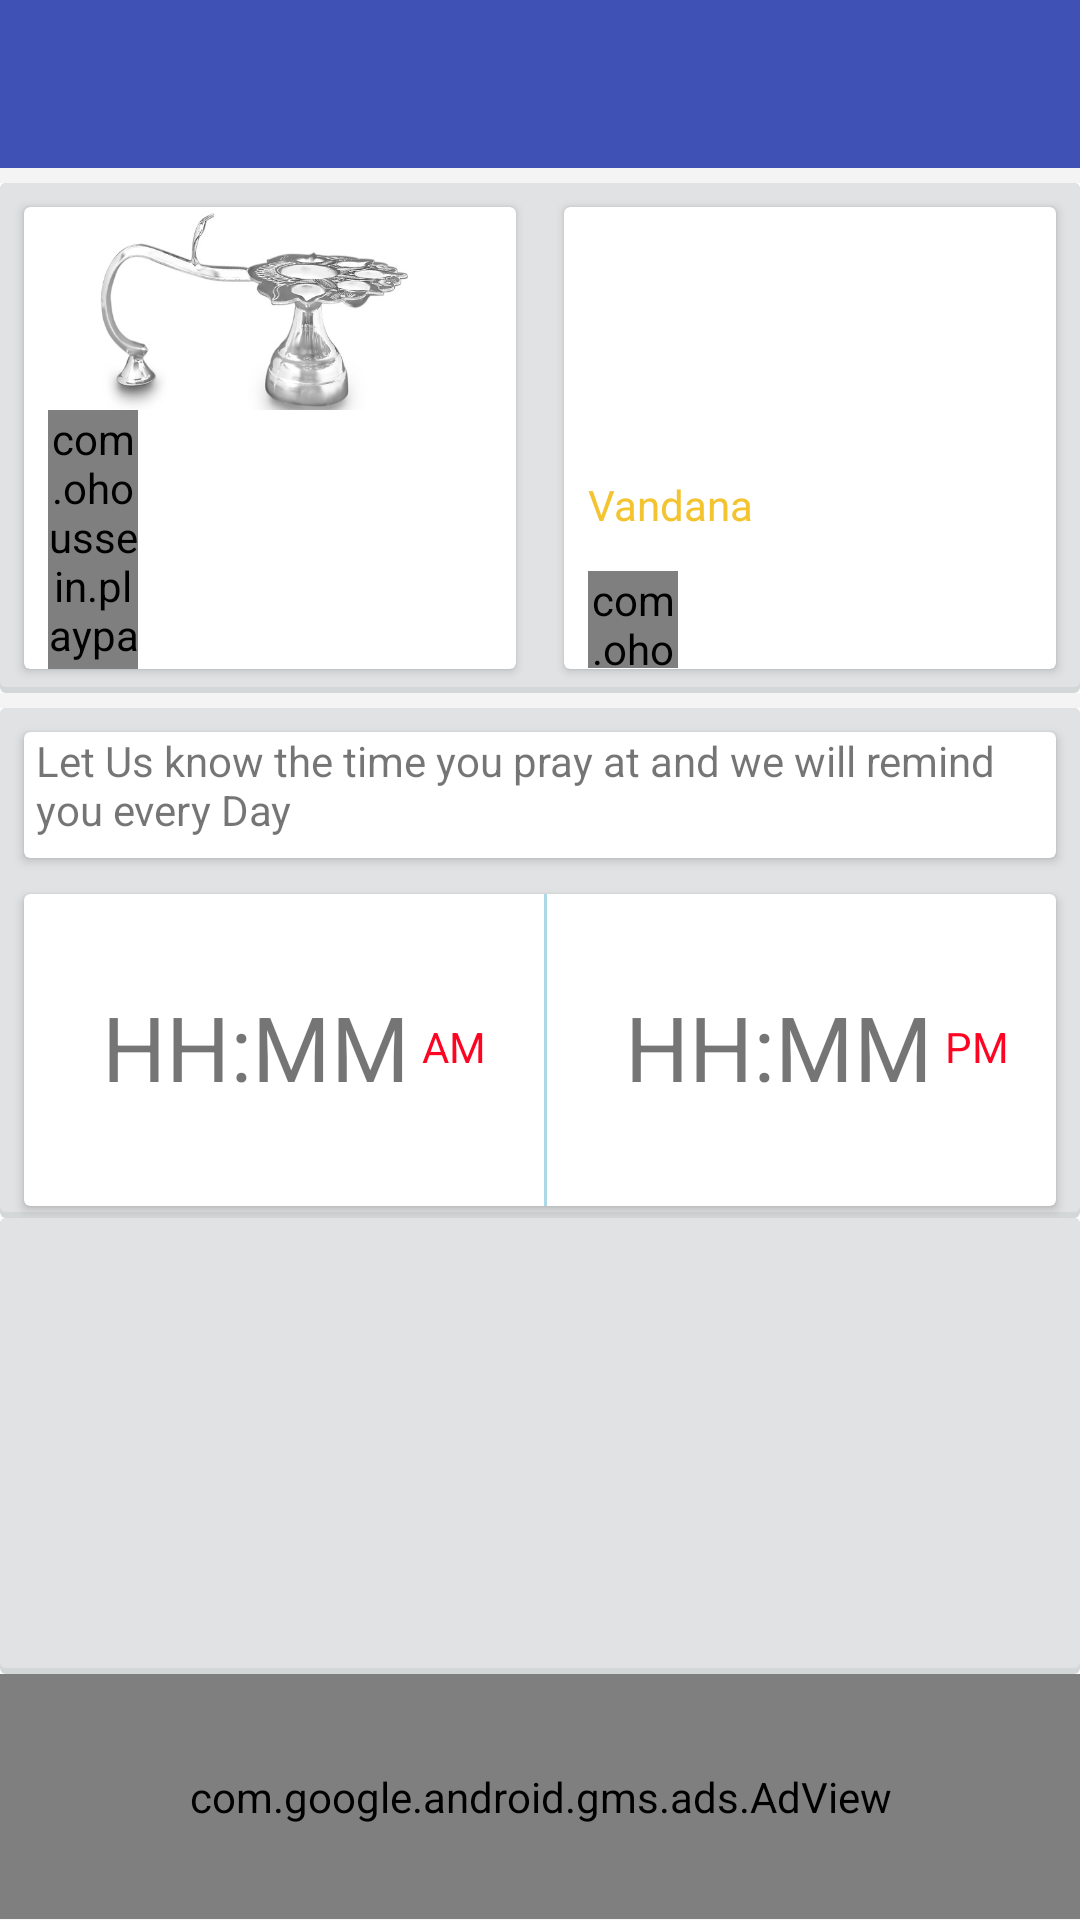

Icons on this 1080 × 1920 Android screen, each with its box as (x1, y1, x2, y2):
aarti: (101, 213, 408, 410)
